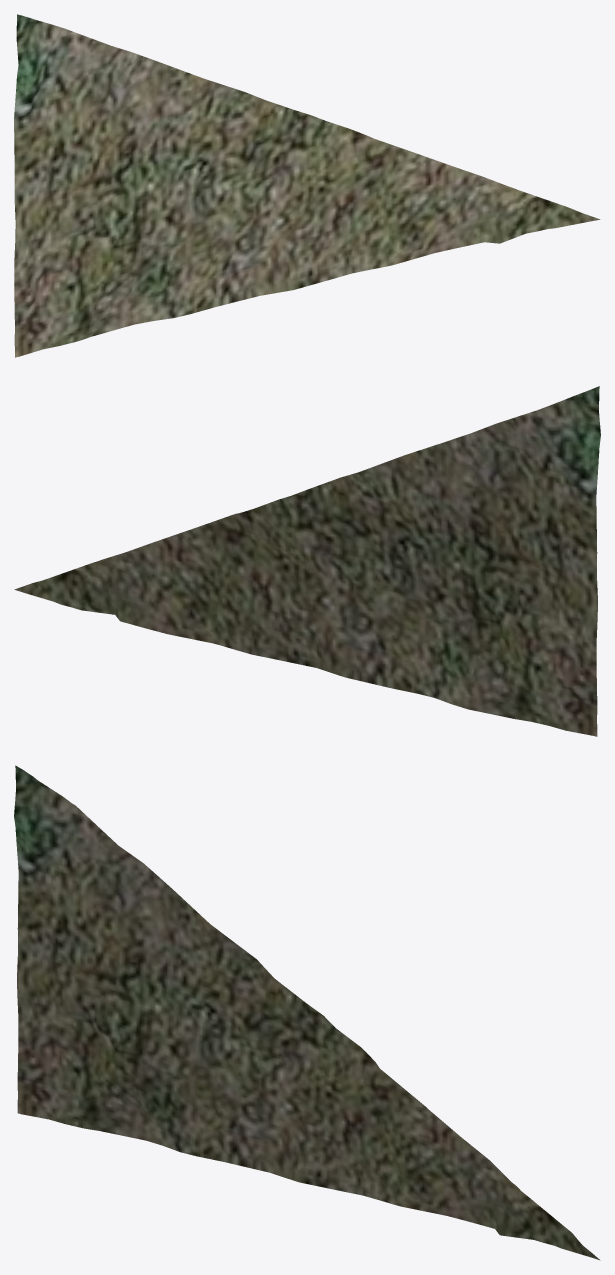
Rendered from Tile_2.fbx.
The picture shows the model from 3 angles, top to bottom: view 1: azimuth 30°, elevation 25°; view 2: azimuth 150°, elevation 25°; view 3: azimuth 330°, elevation 25°; orthographic projection.
Visible parts, largest first — view 1: DefaultName; view 2: DefaultName; view 3: DefaultName.
Part boxes in pixels (box(x1,y1,x2,y2)): DefaultName: box(14, 14, 600, 357); DefaultName: box(14, 386, 600, 736); DefaultName: box(14, 765, 600, 1260).
Size of the model in its own units: 1.92 by 1.09 by 0.0576.
Materials: 1 (1 with a texture image).
